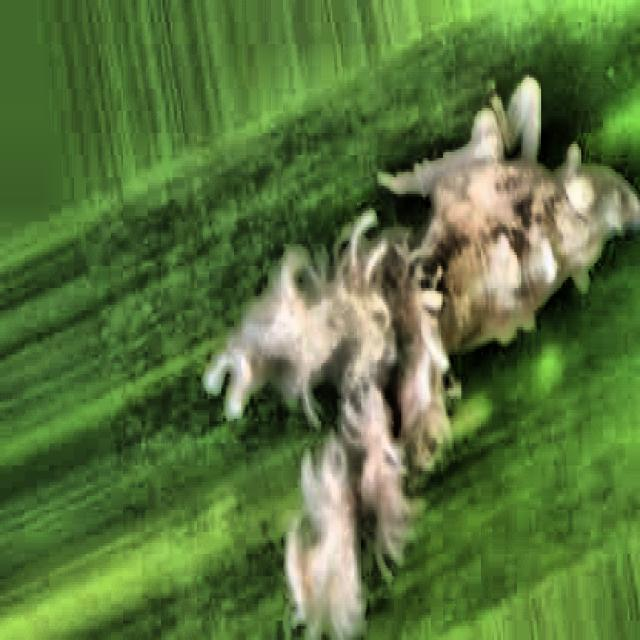Pyrilla-perpusilla: (201, 70, 638, 640)
